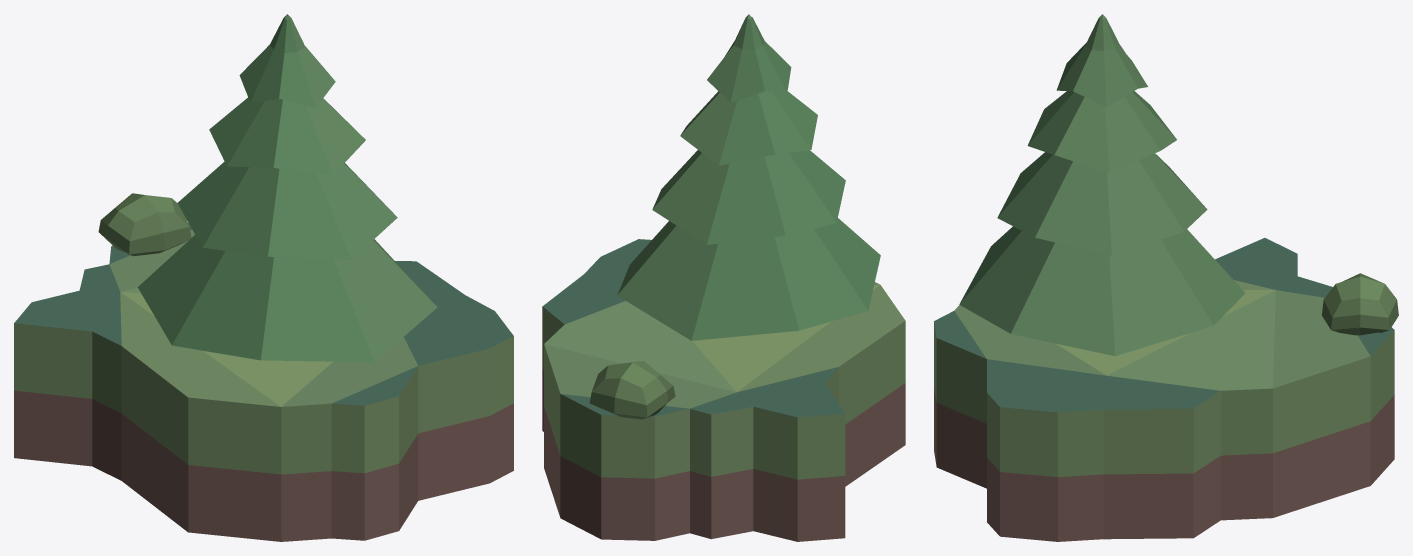
File: churapcha.gltf
3 views of the same model, side by side, from view 1: azimuth 30°, elevation 25°; view 2: azimuth 150°, elevation 25°; view 3: azimuth 270°, elevation 25° (orthographic). The views are drawn at different scales.
Parts seen in each view (by area): view 1: чурапча; view 2: чурапча; view 3: чурапча.
Part boxes in pixels (bbox=[...]): чурапча: bbox=[14, 14, 513, 541]; чурапча: bbox=[542, 14, 905, 541]; чурапча: bbox=[934, 14, 1398, 541].
Bounding box in the file's own units: 0.4518 × 0.5325 × 0.508.
